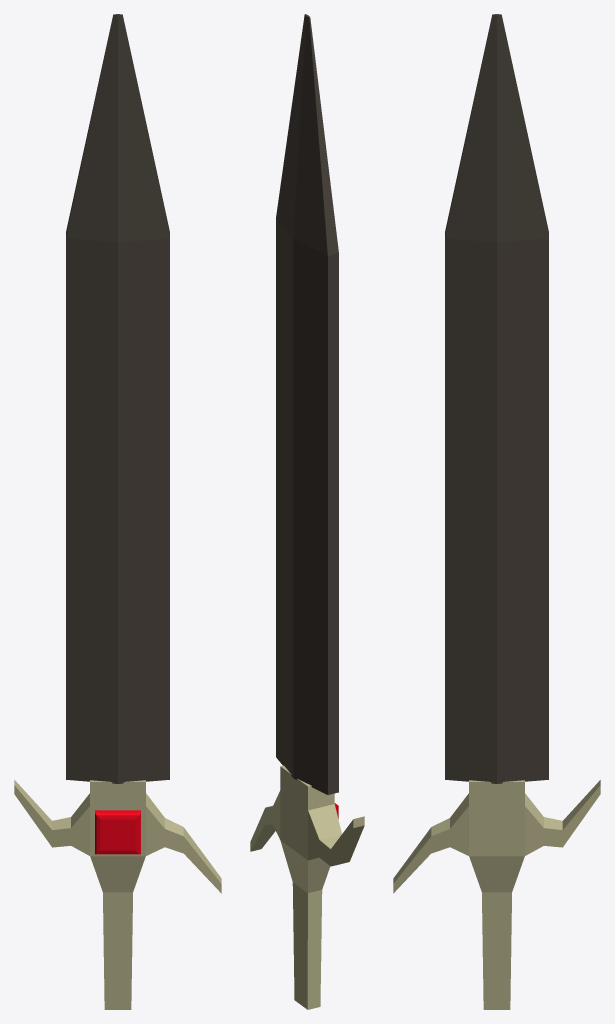
Rendered from Sword_for_Skelet.fbx.
The picture shows the model from 3 angles, left to right: view 1: azimuth 90°, elevation 25°; view 2: azimuth 210°, elevation 25°; view 3: azimuth 270°, elevation 25°; orthographic projection.
Visible parts, largest first — view 1: Cube.213, Sword; view 2: Cube.213, Sword; view 3: Cube.213, Sword.
Part boxes in pixels (left/top/right/bottom): Cube.213: left=66, top=14, right=169, bottom=783; Sword: left=14, top=780, right=221, bottom=1009; Cube.213: left=276, top=14, right=338, bottom=794; Sword: left=250, top=765, right=364, bottom=1009; Cube.213: left=445, top=14, right=548, bottom=783; Sword: left=393, top=780, right=600, bottom=1009.
Size of the model in its own units: 7.17 by 190 by 35.97.
